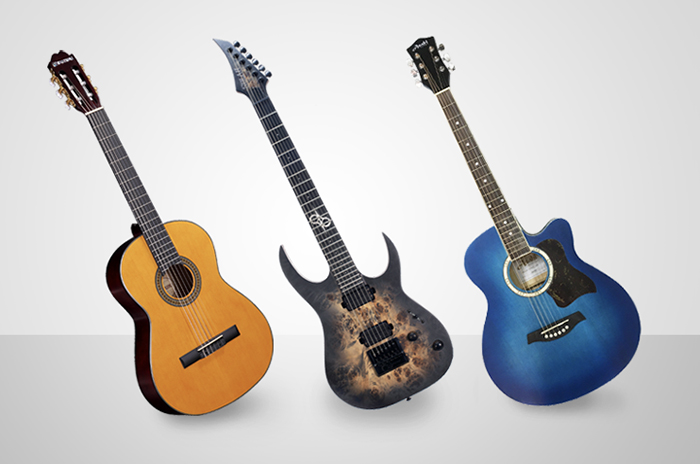guitar: (210, 38, 453, 414), (404, 35, 642, 408), (47, 49, 274, 417)
